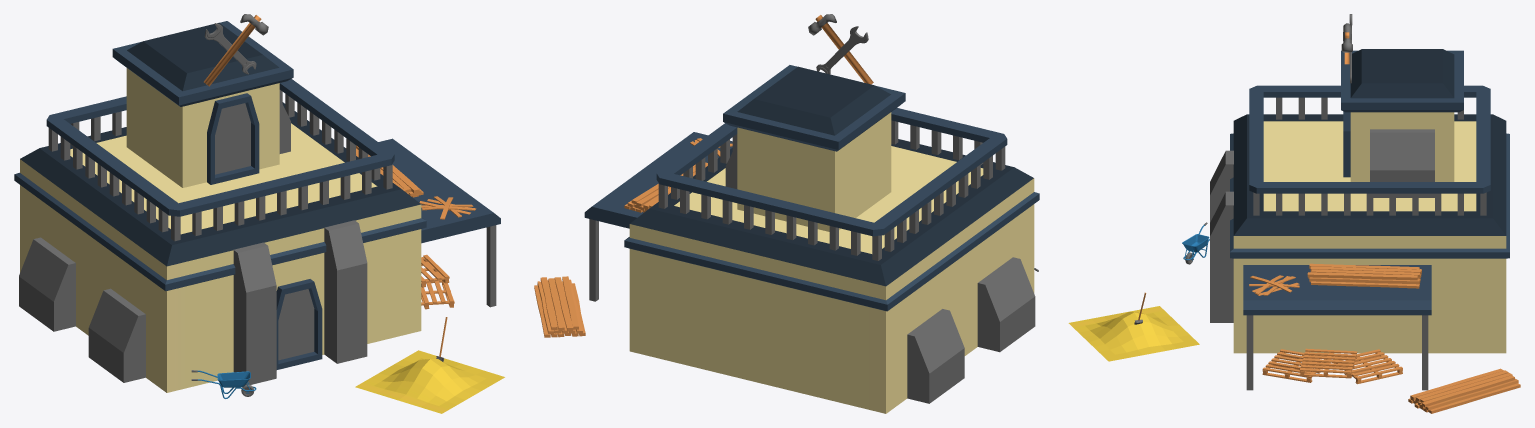
File: builder_house.fbx
3 renders of one model, left to right at view 1: azimuth 30°, elevation 25°; view 2: azimuth 150°, elevation 25°; view 3: azimuth 270°, elevation 25°, orthographic. The views are drawn at different scales.
Visible parts, largest first — view 1: builder_house, sand, planks.001, palette, wheelbarrow; view 2: builder_house, planks.002, planks.001; view 3: builder_house, sand, palette, planks.001, planks.002, wheelbarrow.
Boxes of the visible parts, <box> form: builder_house: <box>14,14,500,392</box>; sand: <box>355,350,504,413</box>; planks.001: <box>356,145,476,219</box>; palette: <box>421,254,454,309</box>; wheelbarrow: <box>191,370,256,398</box>; builder_house: <box>584,14,1039,413</box>; planks.002: <box>534,276,585,337</box>; planks.001: <box>624,138,732,212</box>; builder_house: <box>1210,14,1509,390</box>; sand: <box>1068,306,1199,361</box>; palette: <box>1262,348,1402,384</box>; planks.001: <box>1249,263,1421,295</box>; planks.002: <box>1408,368,1520,413</box>; wheelbarrow: <box>1182,222,1209,264</box>.
Bounding box in the file's own units: 1357 × 948 × 1394.
6 materials, 6 textured.
